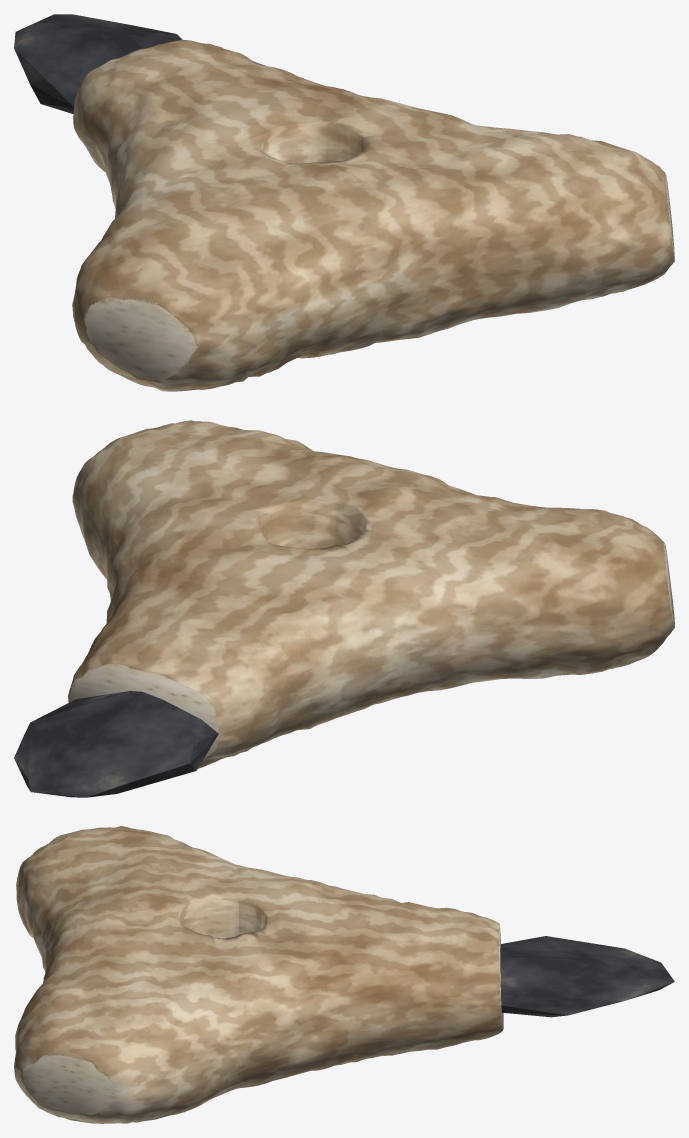
The model's file is oprawa-z-poroza.glb.
3 renders of one model, top to bottom at view 1: azimuth 30°, elevation 25°; view 2: azimuth 150°, elevation 25°; view 3: azimuth 270°, elevation 25°, orthographic. The views are drawn at different scales.
Parts seen in each view (by area): view 1: Oprawa, Ostrze; view 2: Oprawa, Ostrze; view 3: Oprawa, Ostrze.
Part boxes in pixels (x1,y1,x2,y2): Oprawa: (72, 40, 674, 391); Ostrze: (14, 14, 182, 113); Oprawa: (68, 420, 674, 768); Ostrze: (14, 691, 218, 797); Oprawa: (14, 826, 503, 1123); Ostrze: (500, 936, 674, 1017).
Size of the model in its own units: 2.56 by 0.6441 by 2.98.
2 materials, 2 textured.
